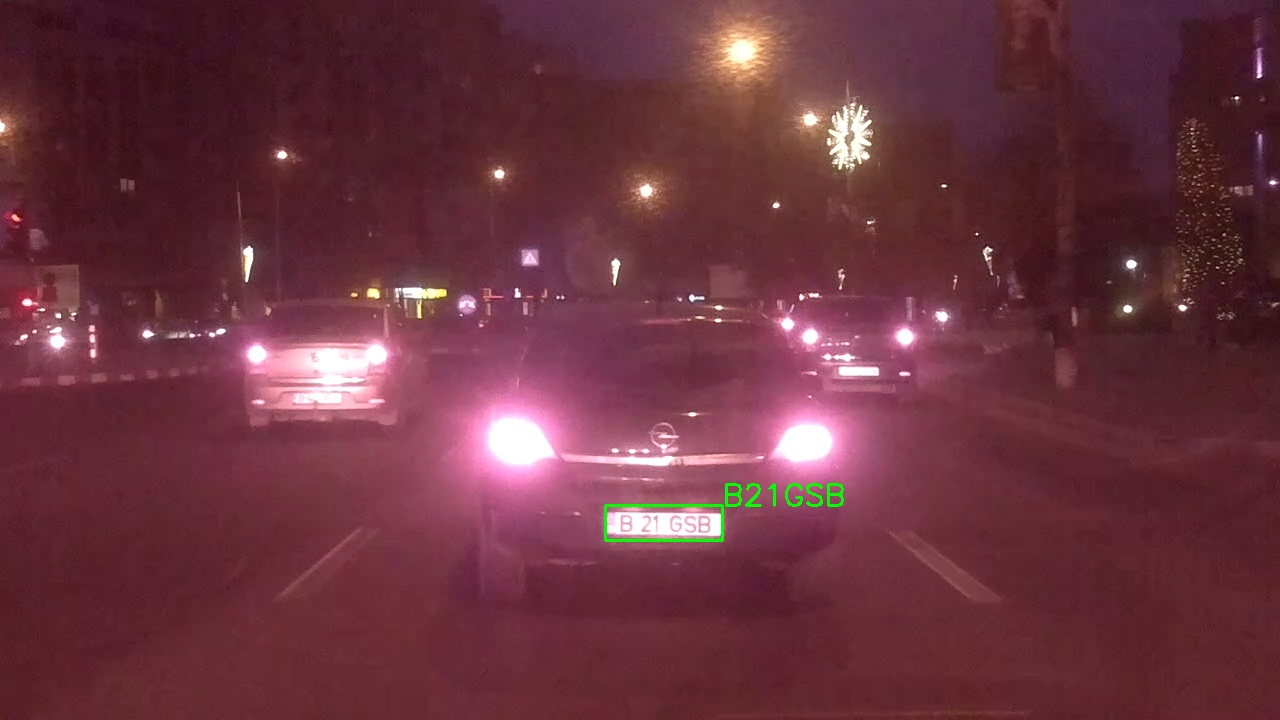license-plate: (605, 505, 723, 541)
